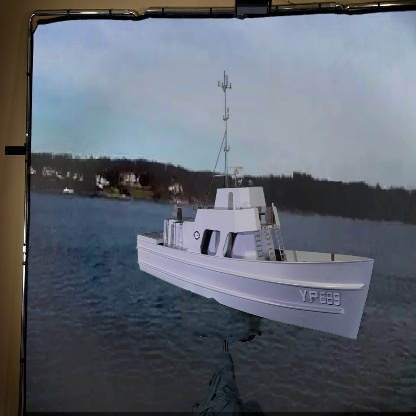YP689: (135, 84, 377, 343)
